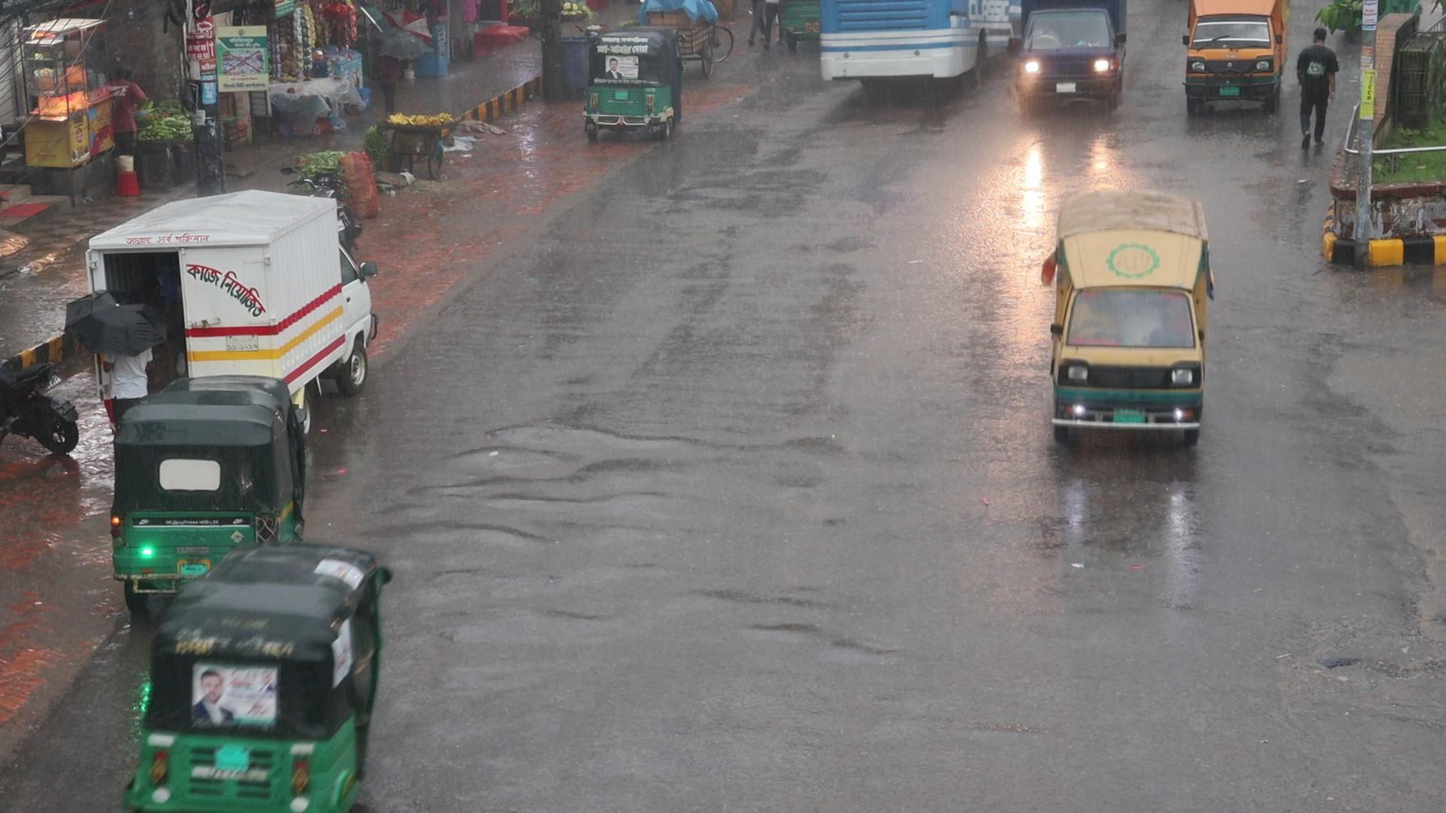Truck: (1041, 180, 1215, 458)
